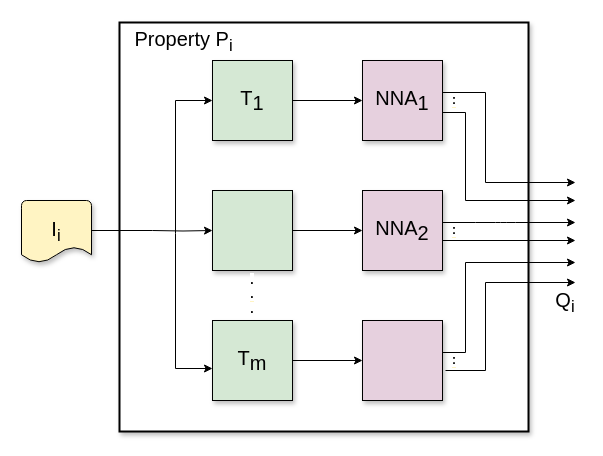
Image size: 603x456. Some labels were removed from this diagram. Here are the shapes that lost their labels. From the top down, the centre of each, then its label:
point (253, 232): T 2
point (403, 362): NNA m
